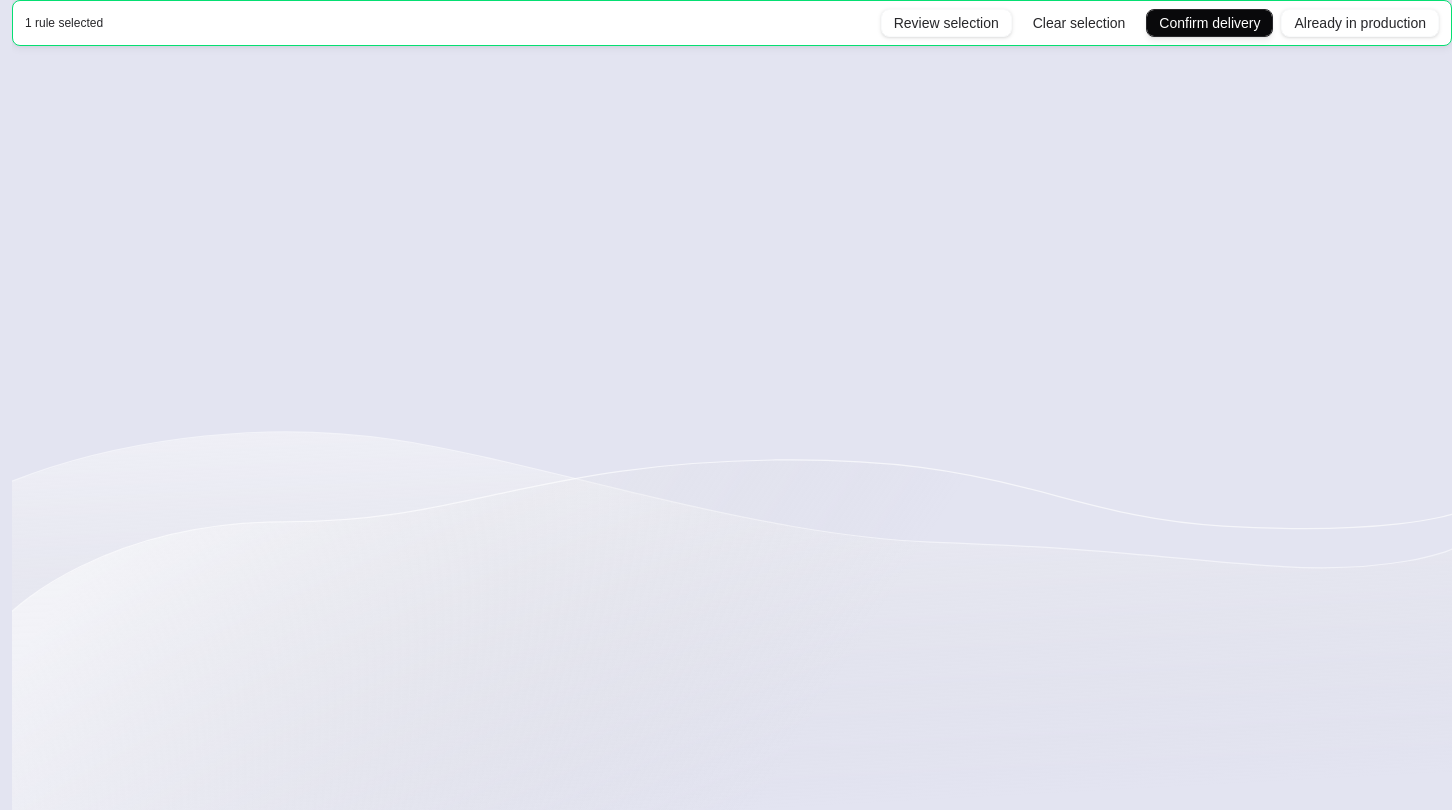
Test: Intent delivery UI › refuses a head change during preparation without opening confirmation
What coordinates should you click on to do the following:
click the button "Confirm delivery"
I would click on:
 (1210, 23)
Its box is x1=1146 y1=9 x2=1273 y2=37.
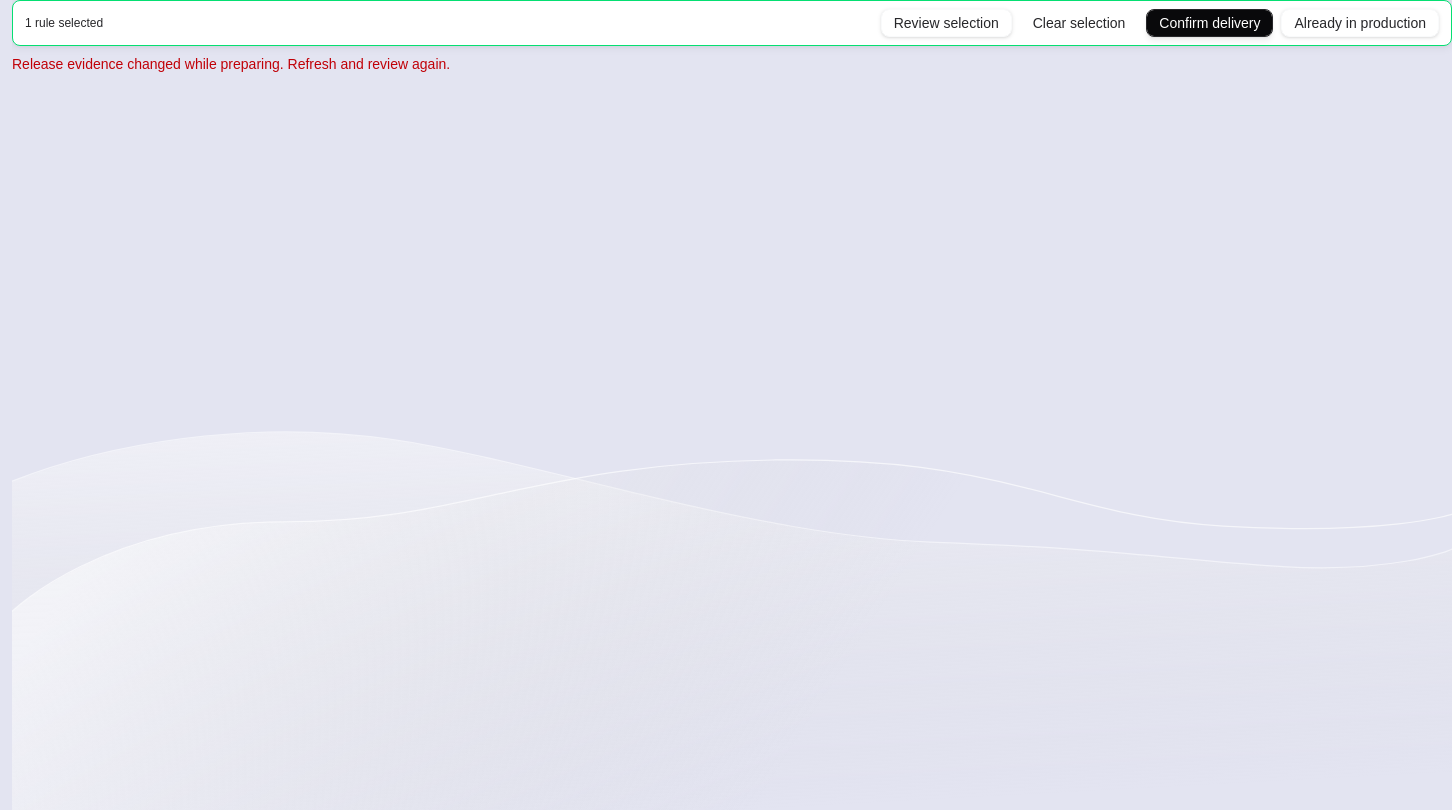
Now the text "Release evidence changed while preparing. Refresh and review again." is shown, box x1=12 y1=56 x2=450 y2=72
